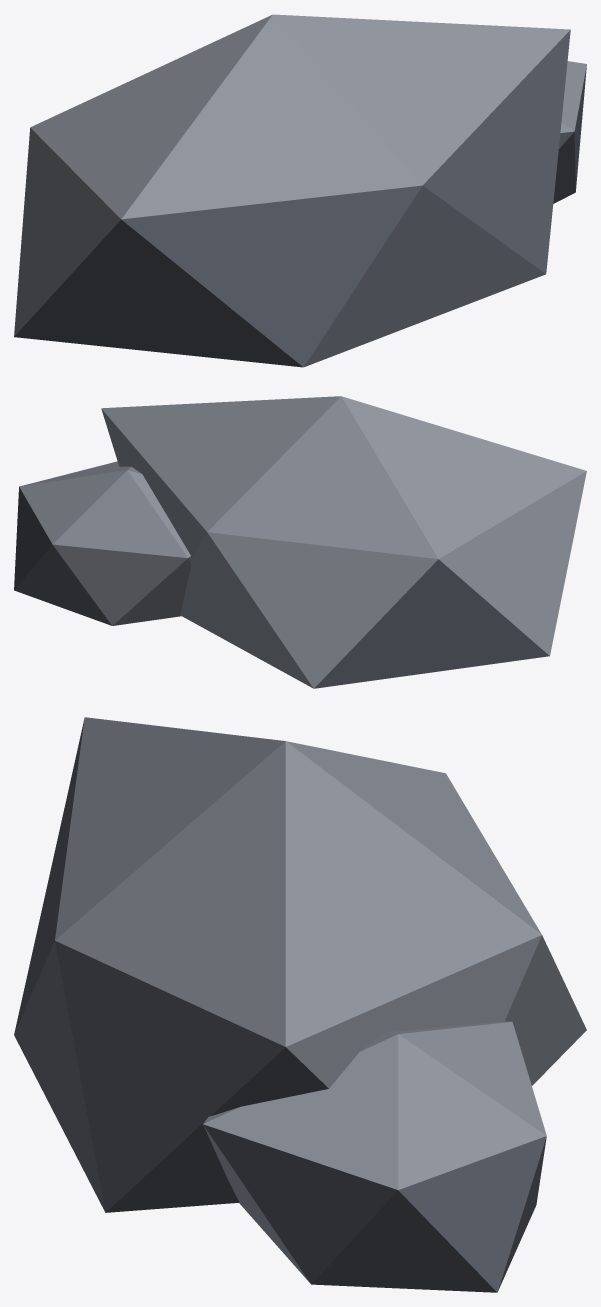
The model's file is Rock_A.fbx.
3 views of the same model, one above another, from view 1: azimuth 30°, elevation 25°; view 2: azimuth 150°, elevation 25°; view 3: azimuth 270°, elevation 25° (orthographic). The views are drawn at different scales.
Visible parts, largest first — view 1: Rock_A; view 2: Rock_A; view 3: Rock_A.
Part boxes in pixels (bbox=[...]): Rock_A: bbox=[14, 14, 586, 367]; Rock_A: bbox=[14, 396, 586, 688]; Rock_A: bbox=[14, 717, 586, 1292].
Bounding box in the file's own units: 6.65 × 2.7 × 4.08.
1 material, 1 textured.
